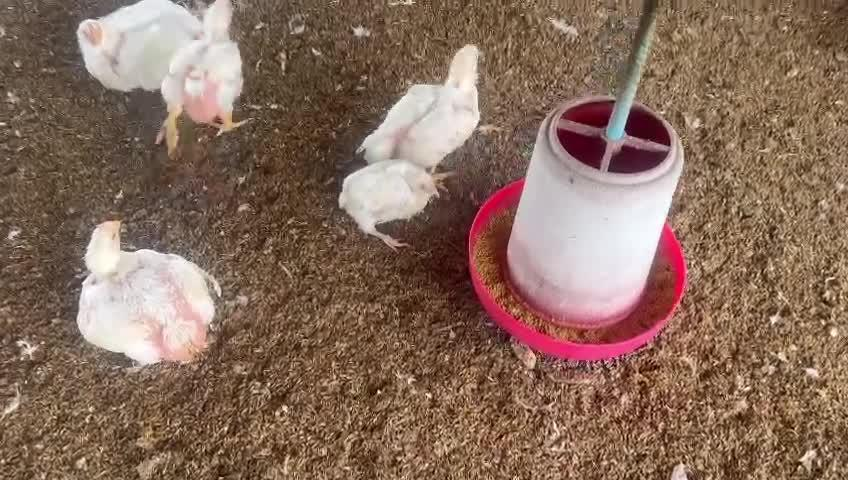AbNormal: (334, 155, 455, 258)
Normal: (76, 223, 228, 386), (360, 41, 485, 171), (163, 0, 259, 159), (68, 0, 194, 99)
